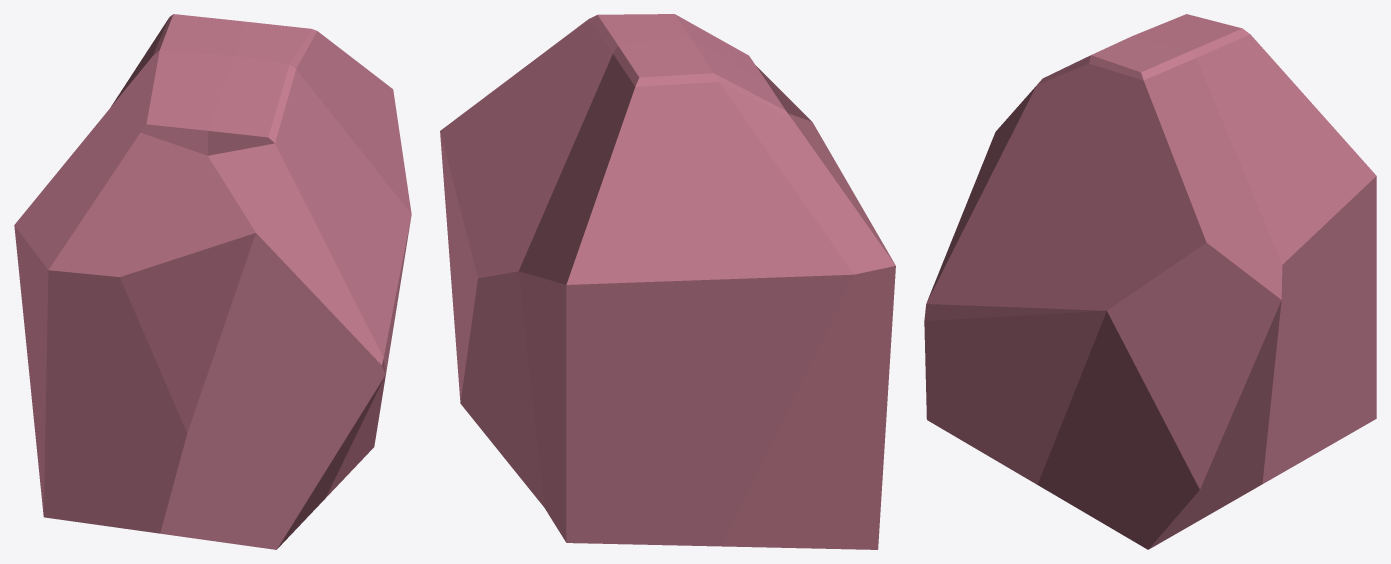
Rendered from Big Rock.fbx.
3 views of the same model, side by side, from view 1: azimuth 30°, elevation 25°; view 2: azimuth 150°, elevation 25°; view 3: azimuth 270°, elevation 25° (orthographic). The views are drawn at different scales.
Parts seen in each view (by area): view 1: Big rock; view 2: Big rock; view 3: Big rock.
Part boxes in pixels (<box>): Big rock: <box>14,14,411,549</box>; Big rock: <box>440,14,895,549</box>; Big rock: <box>924,14,1376,549</box>.
Size of the model in its own units: 467 by 508 by 468.
